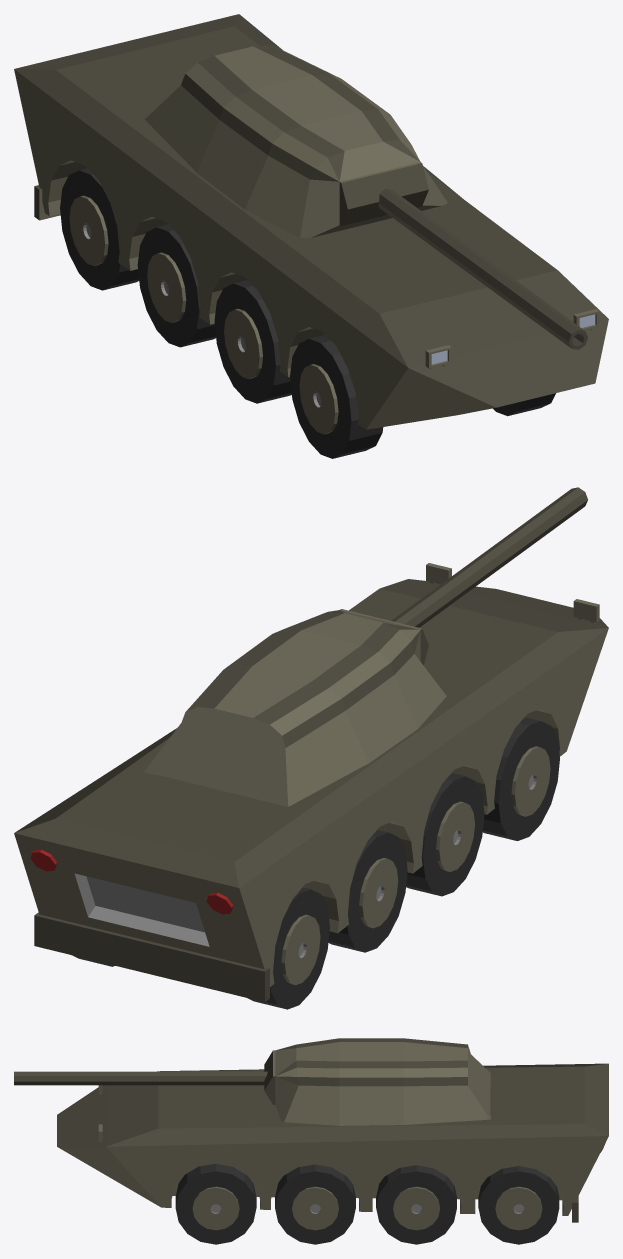
The model's file is WheelTank.fbx.
3 renders of one model, top to bottom at view 1: azimuth 30°, elevation 25°; view 2: azimuth 150°, elevation 25°; view 3: azimuth 270°, elevation 25°, orthographic. The views are drawn at different scales.
Parts seen in each view (by area): view 1: Main, RightTire.1, RightTire.2, RightTire.3, RightTire.4, LeftTire.1; view 2: Main, RightTire.1, RightTire.2, RightTire.3, RightTire.4; view 3: Main, LeftTire.1, LeftTire.2, LeftTire.3, LeftTire.4.
Part boxes in pixels (x1=…): Main: x1=14, y1=14, x2=608, y2=429; RightTire.1: x1=290, y1=334, x2=383, y2=458; RightTire.2: x1=214, y1=280, x2=291, y2=403; RightTire.3: x1=137, y1=224, x2=215, y2=347; RightTire.4: x1=60, y1=168, x2=139, y2=290; LeftTire.1: x1=493, y1=393, x2=555, y2=416; Main: x1=14, y1=487, x2=608, y2=1002; RightTire.1: x1=482, y1=717, x2=559, y2=840; RightTire.2: x1=406, y1=773, x2=484, y2=896; RightTire.3: x1=328, y1=830, x2=407, y2=952; RightTire.4: x1=247, y1=887, x2=329, y2=1009; Main: x1=14, y1=1038, x2=608, y2=1222; LeftTire.1: x1=175, y1=1163, x2=256, y2=1244; LeftTire.2: x1=275, y1=1164, x2=355, y2=1244; LeftTire.3: x1=376, y1=1165, x2=456, y2=1244; LeftTire.4: x1=478, y1=1166, x2=559, y2=1244.
Size of the model in its own units: 160 by 160 by 542.
